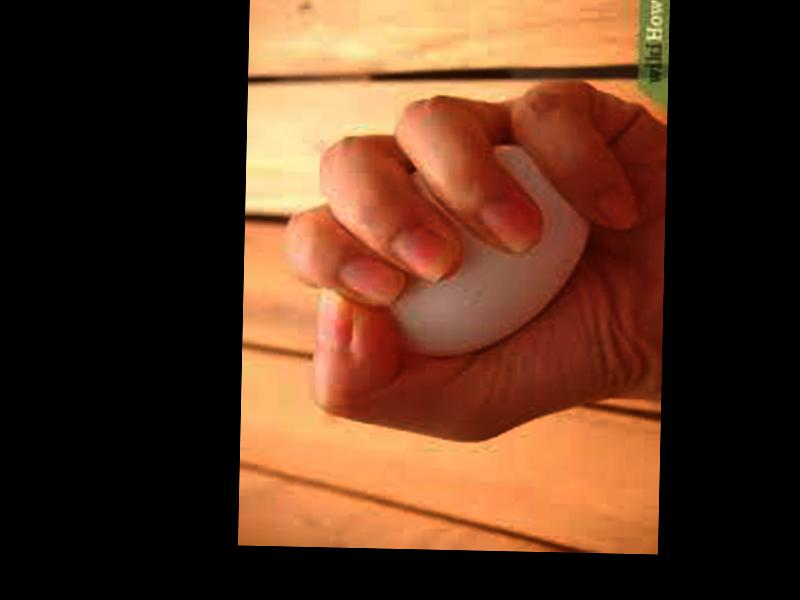Eggs: (389, 141, 591, 361)
